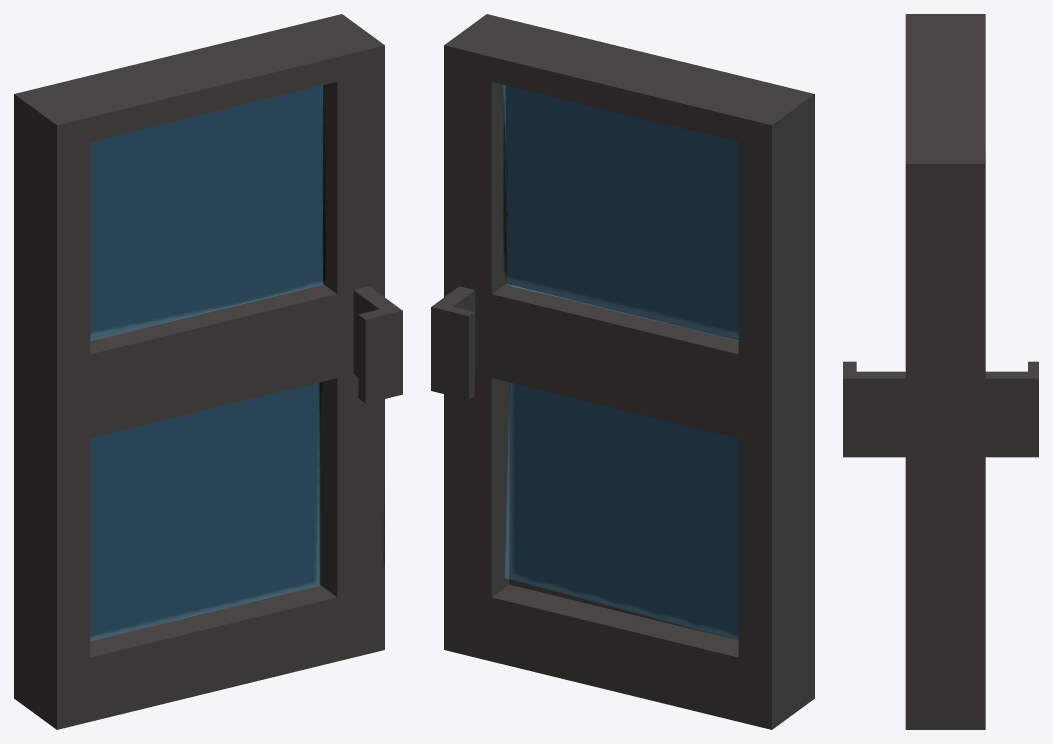
The model's file is Door.fbx.
The picture shows the model from 3 angles, left to right: view 1: azimuth 30°, elevation 25°; view 2: azimuth 150°, elevation 25°; view 3: azimuth 270°, elevation 25°; orthographic projection. The views are drawn at different scales.
Visible parts, largest first — view 1: polySurface45; view 2: polySurface45; view 3: polySurface45.
Part boxes in pixels (<box>): polySurface45: <box>14,14,402,729</box>; polySurface45: <box>431,14,814,729</box>; polySurface45: <box>843,14,1038,729</box>.
Size of the model in its own units: 84.26 by 148 by 46.51.
